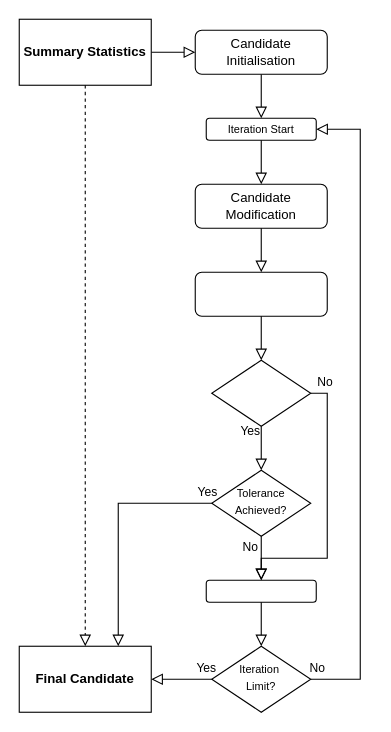
The diagram is 391 pixels wide and 732 high, and some of its shapes have lost their labels. Each missing label, with the centre of its shape:
Candidate Accepted?: (x=261, y=392)
Candidate Evaluation: (x=260, y=293)
Iteration End: (x=260, y=590)
